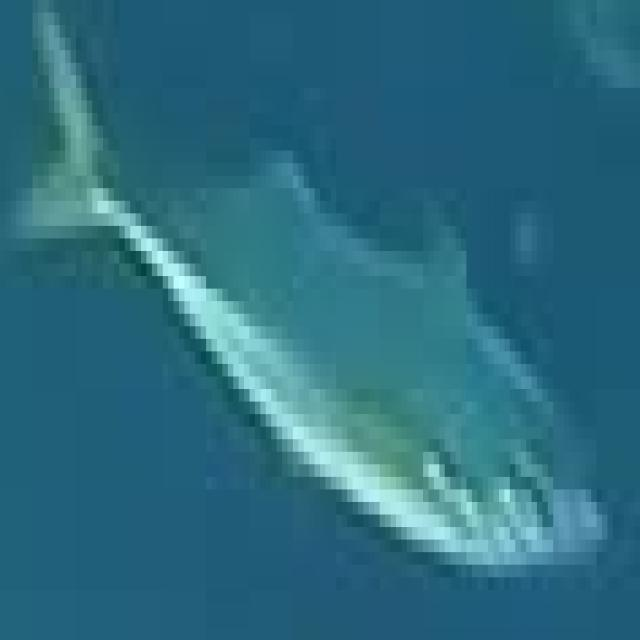fish: (1, 0, 635, 628)
